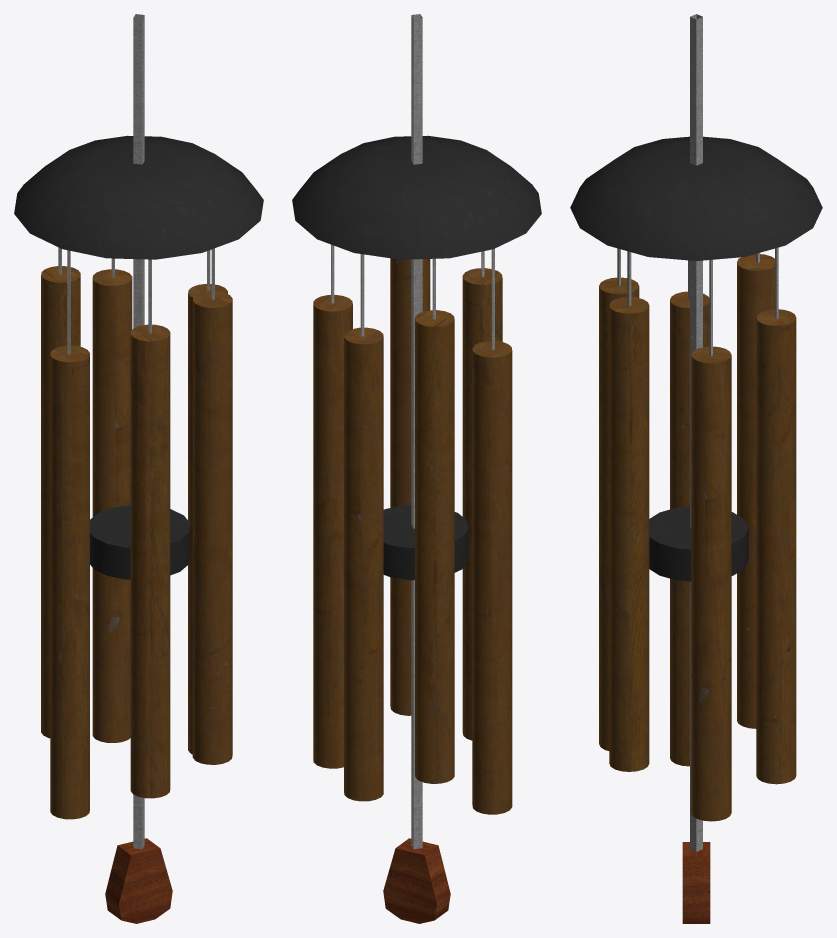
The model's file is Wind Chimes.fbx.
3 renders of one model, left to right at view 1: azimuth 30°, elevation 25°; view 2: azimuth 150°, elevation 25°; view 3: azimuth 270°, elevation 25°, orthographic.
Parts seen in each view (by area): view 1: Wind Chimes.001; view 2: Wind Chimes.001; view 3: Wind Chimes.001.
Boxes of the visible parts, box(x1,y1,x2,y2) form: Wind Chimes.001: box(14, 14, 263, 923); Wind Chimes.001: box(292, 14, 541, 923); Wind Chimes.001: box(570, 14, 822, 923).
Bounding box in the file's own units: 42.94 × 169 × 42.94.
1 material, 1 textured.
